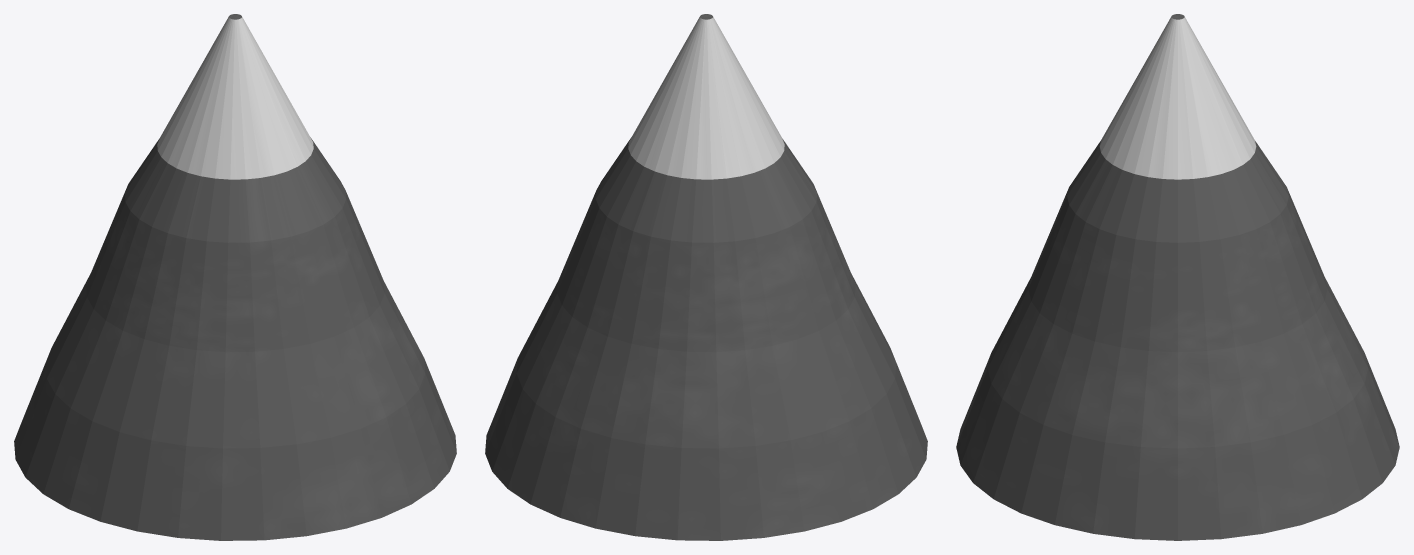
File: mod_natural_rock_Mountain.fbx
3 views of the same model, side by side, from view 1: azimuth 30°, elevation 25°; view 2: azimuth 150°, elevation 25°; view 3: azimuth 270°, elevation 25° (orthographic).
Visible parts, largest first — view 1: mesh_mountain; view 2: mesh_mountain; view 3: mesh_mountain.
Boxes of the visible parts, x1,y1,x2,y2 form: mesh_mountain: (14,14,456,540); mesh_mountain: (485,14,927,540); mesh_mountain: (956,14,1399,540).
Bounding box in the file's own units: 704 × 754 × 704.
